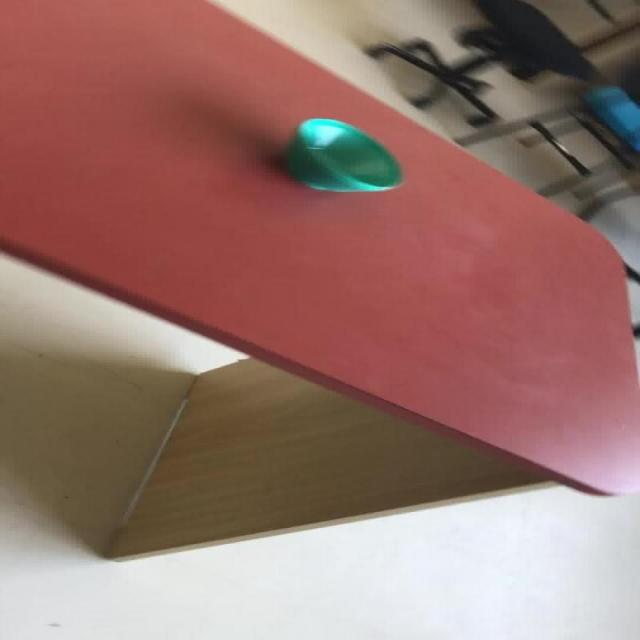Bowl: (1, 0, 637, 559), (285, 117, 404, 192)
